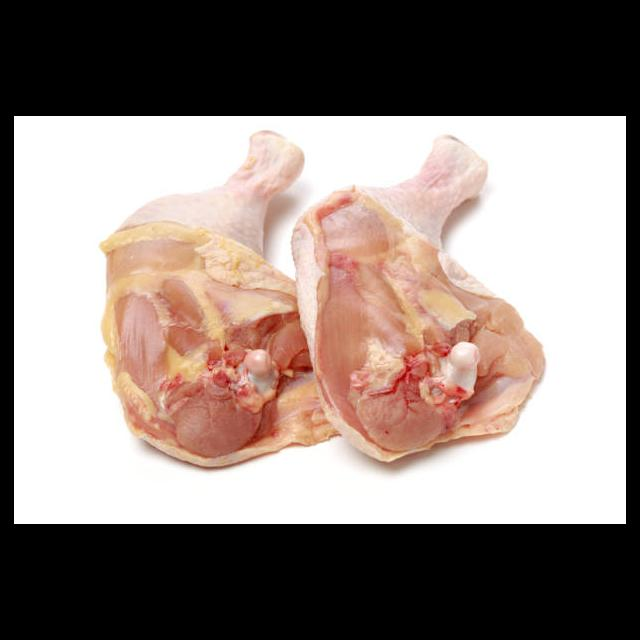chicken: (288, 133, 547, 467), (99, 131, 341, 470)
